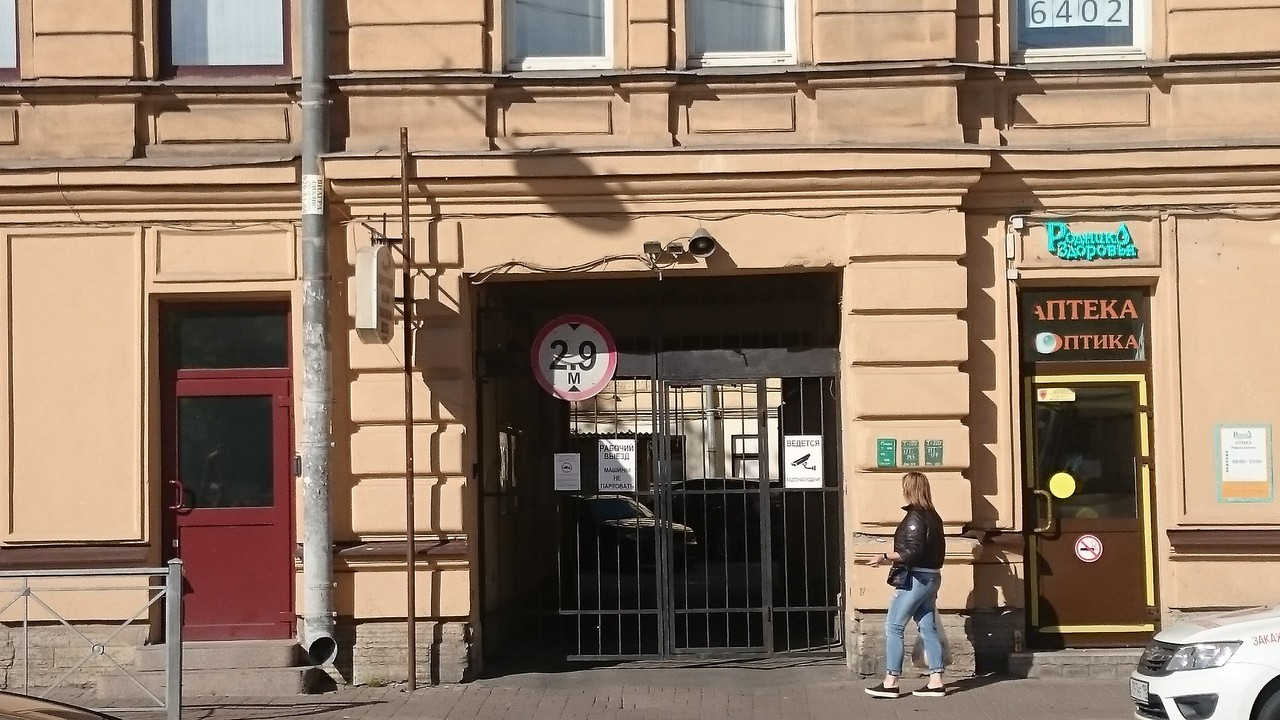arch: (464, 278, 853, 672)
cantilever: (356, 234, 413, 346)
door: (1022, 371, 1156, 632), (161, 378, 290, 639)
window: (1022, 287, 1156, 368), (157, 299, 294, 376)
